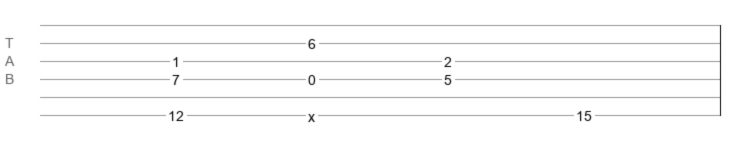0: (308, 72, 316, 82)
1: (172, 54, 180, 64)
12: (168, 108, 184, 118)
15: (576, 108, 592, 118)
2: (444, 54, 452, 64)
5: (444, 72, 452, 82)
6: (308, 36, 316, 46)
7: (172, 72, 180, 82)
x: (308, 109, 315, 117)
